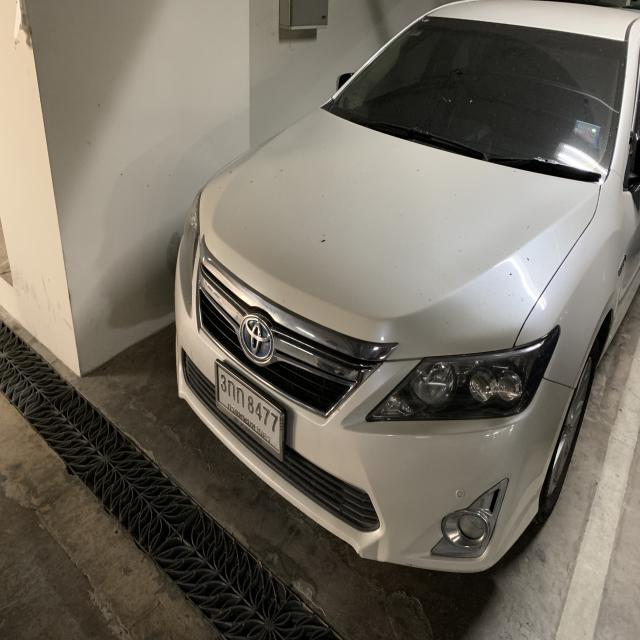license_plate: (213, 358, 284, 466)
